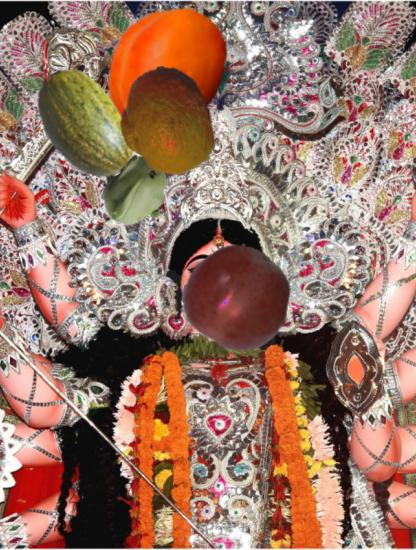Apricot: (99, 4, 236, 141)
Cherry: (183, 243, 292, 352)
Kohlrabi: (97, 151, 175, 229)
Mandarine: (110, 66, 222, 178)
Melon: (23, 66, 143, 186)
